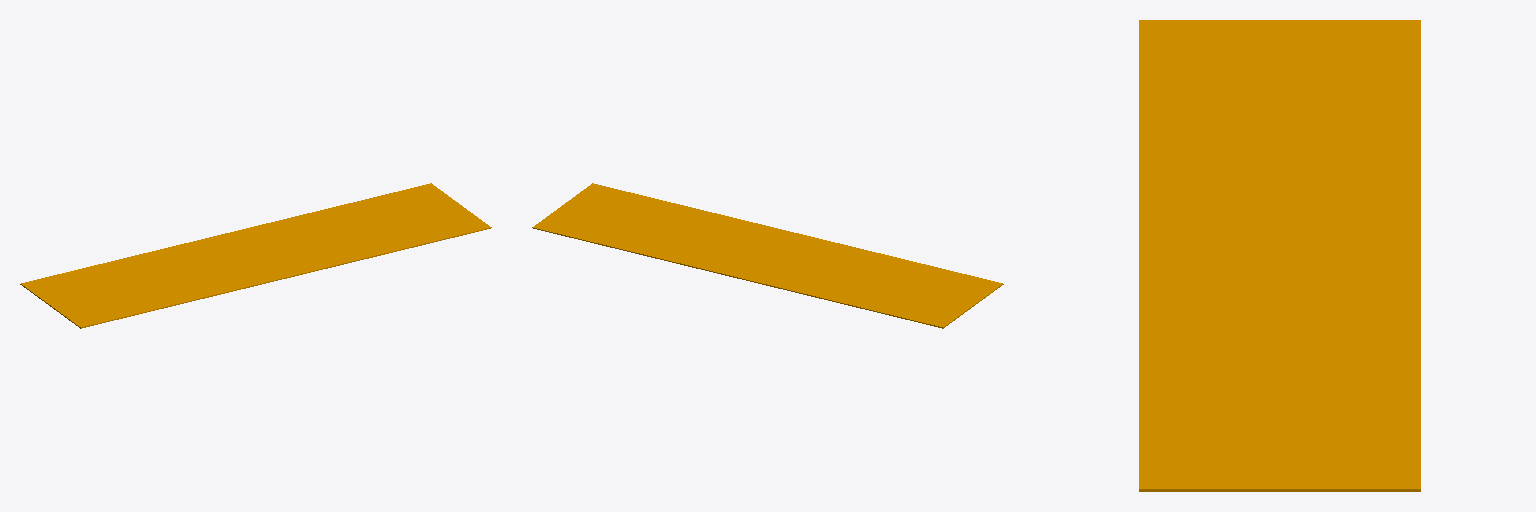
URDF robot description (Truck_Trailer_Floor):
<?xml version="1.0" ?>
<robot name="Truck_Trailer_Floor">
  <link name="Truck_Trailer_Floor">
    <inertial>
      <mass value="649.0624884982565"/>
      <inertia ixx="5.408742598418216e+18" ixy="2.3612755776348657" ixz="1813.459643623577" iyy="5.757664861981684e+18" iyz="-124713168487610.52" izz="3.489929173074377e+17"/>
      <origin xyz="0.0 0.0 0.0" rpy="0.0 0.0 0.0"/>
    </inertial>
    <visual>
      <origin xyz="-1.0 0.0 0.012855" rpy="0.0 0.0 0.0"/>
      <geometry>
        <box size="10 2.54 0.02571"/>
      </geometry>
    </visual>
    <collision name="collision">
      <origin xyz="-1.0 0.0 0.012855" rpy="0.0 0.0 0.0"/>
      <geometry>
        <box size="10 2.54 0.02571"/>
      </geometry>
    </collision>
  </link>
</robot>

--- What the picture shows (computed from the rendered views, not written in the file) ---
Views: 3 orthographic renders of the robot side by side, from view 1: azimuth 30°, elevation 25°; view 2: azimuth 150°, elevation 25°; view 3: azimuth 270°, elevation 25°.
Model Truck_Trailer_Floor with 1 links and 0 joints (none), rooted at Truck_Trailer_Floor, posed every joint at zero.
Visible links, largest first — view 1: Truck_Trailer_Floor; view 2: Truck_Trailer_Floor; view 3: Truck_Trailer_Floor.
Boxes of the visible links, x1,y1,x2,y2 form: Truck_Trailer_Floor: (20, 183, 491, 328); Truck_Trailer_Floor: (532, 183, 1003, 328); Truck_Trailer_Floor: (1139, 20, 1420, 491).
Bounding box of the posed robot: 10 × 2.54 × 0.0257 m (x, y, z).
Geometry: primitives only (box / cylinder / sphere), no mesh files.
